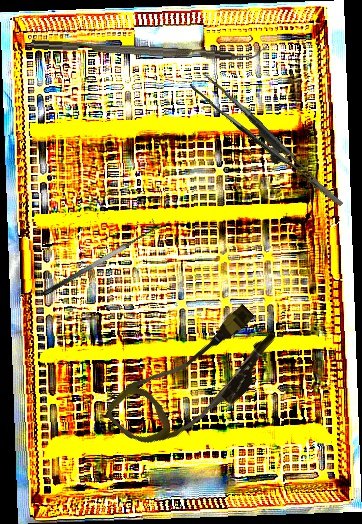Cannula: (102, 287, 288, 474)
Chopper: (31, 28, 267, 65)
Spatula Surgical: (36, 217, 161, 298)
Tissue Forceps: (189, 59, 344, 229)
